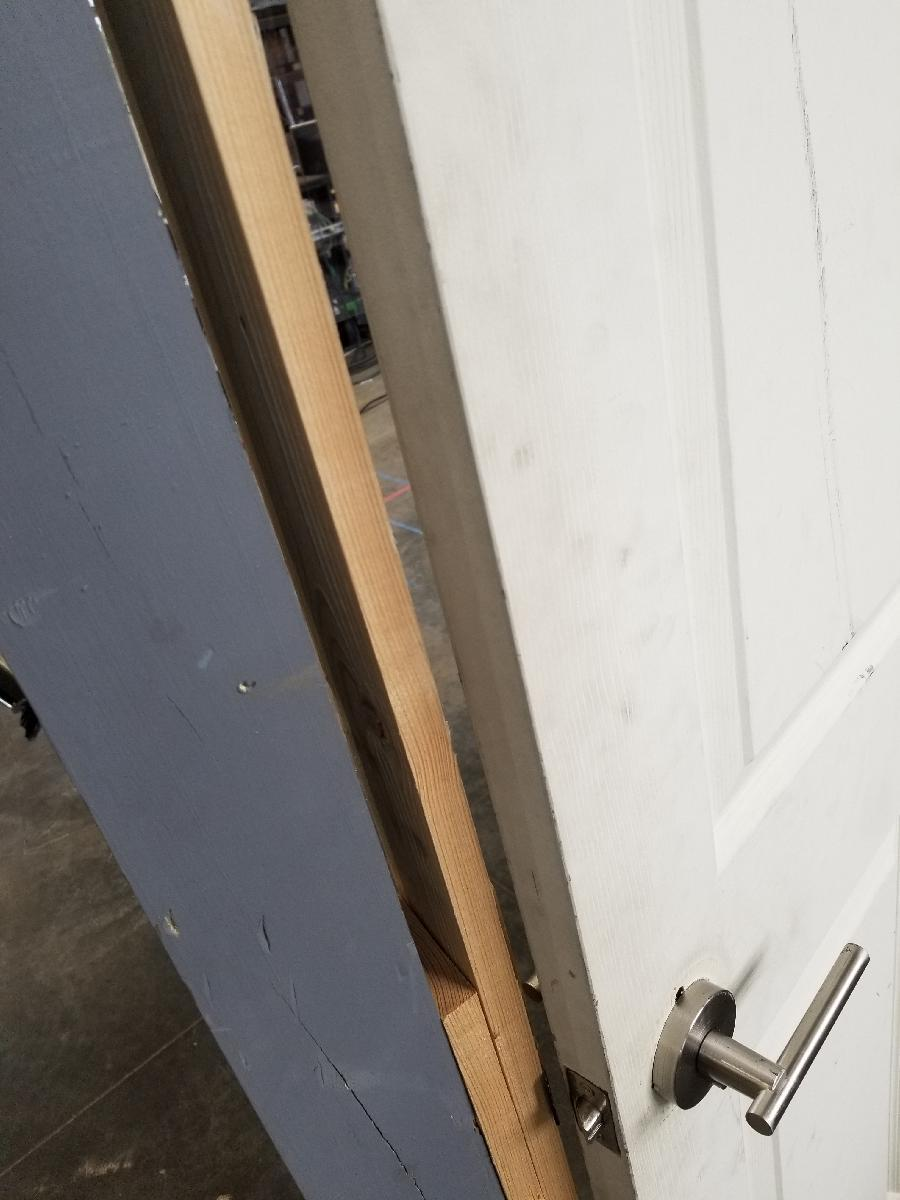handle: (654, 933, 871, 1141)
